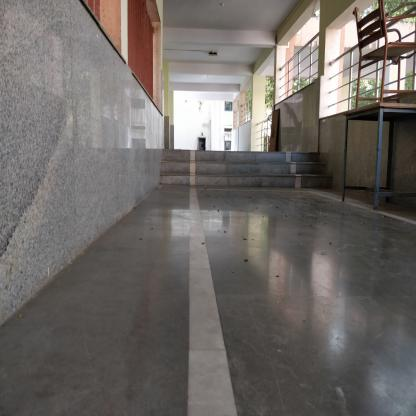stairs: (165, 149, 311, 191)
